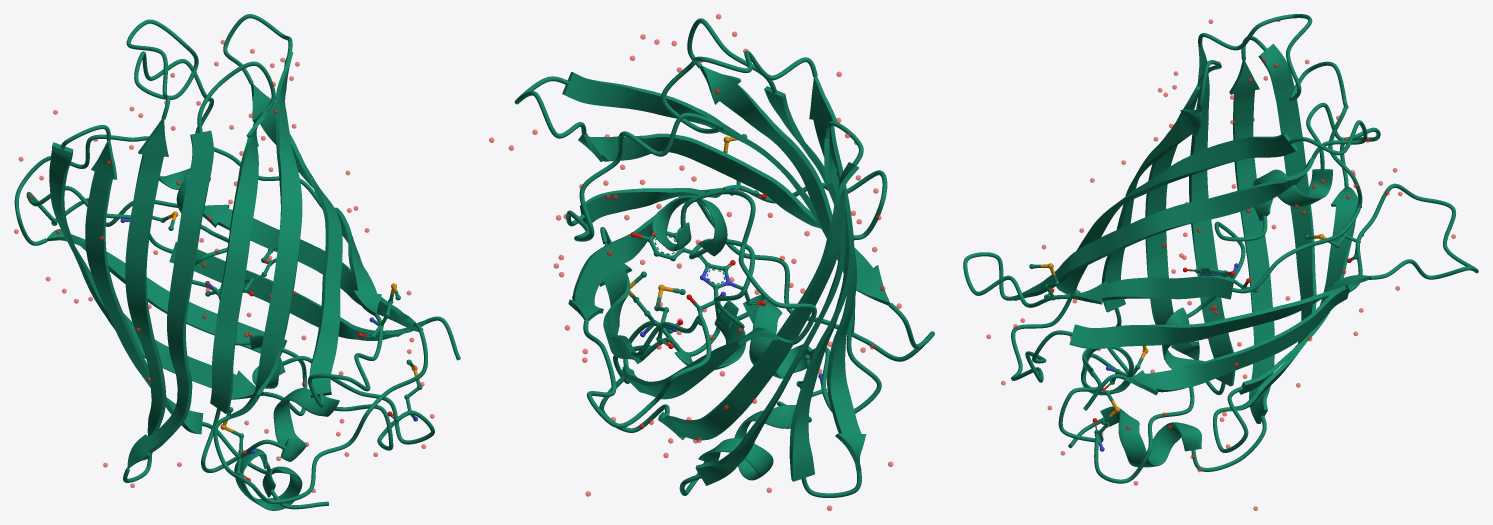
The model's file is 1EMA.glb.
3 renders of one model, left to right at view 1: azimuth 30°, elevation 25°; view 2: azimuth 150°, elevation 25°; view 3: azimuth 270°, elevation 25°, orthographic. The views are drawn at different scales.
Size of the model in its own units: 35.79 by 45.68 by 49.69.
